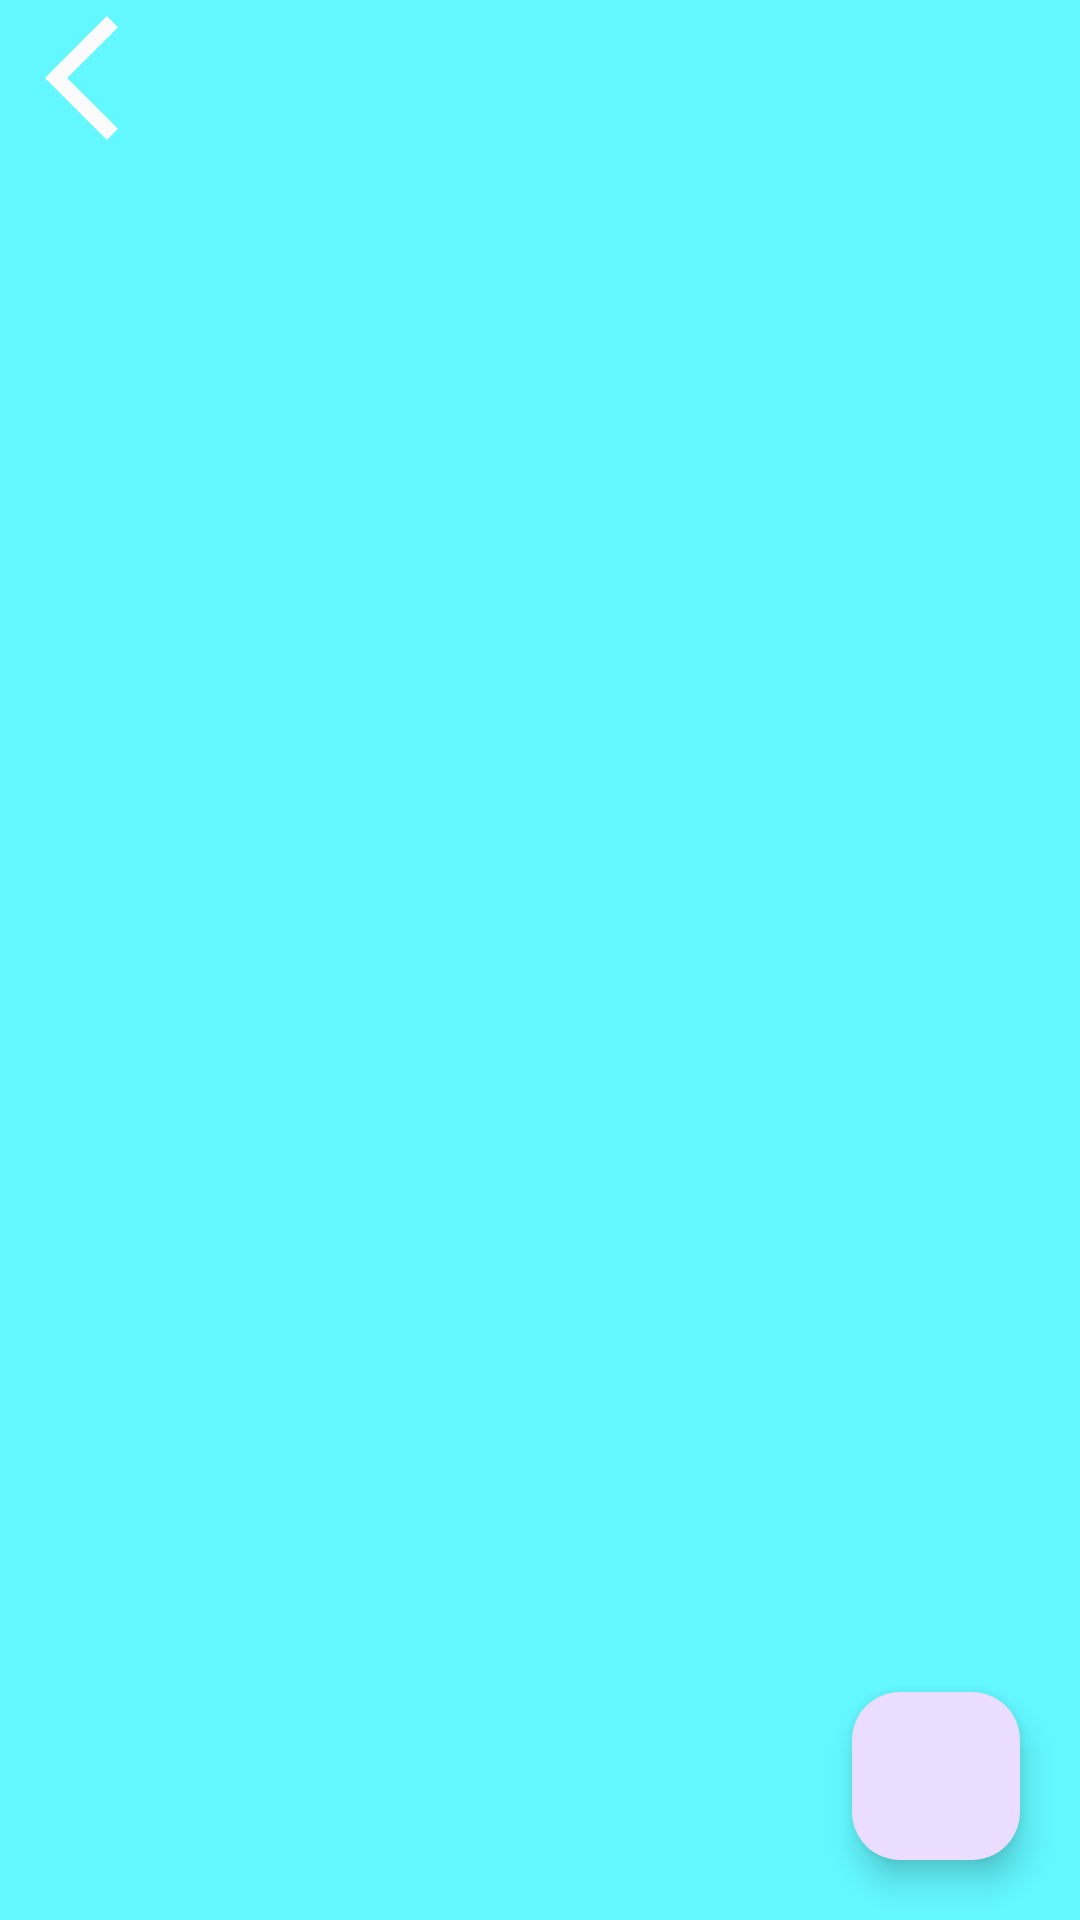

Where icons sit on this 1080*1920 app screen, as (x1, y1, x2, y2):
back: (45, 16, 118, 140)
